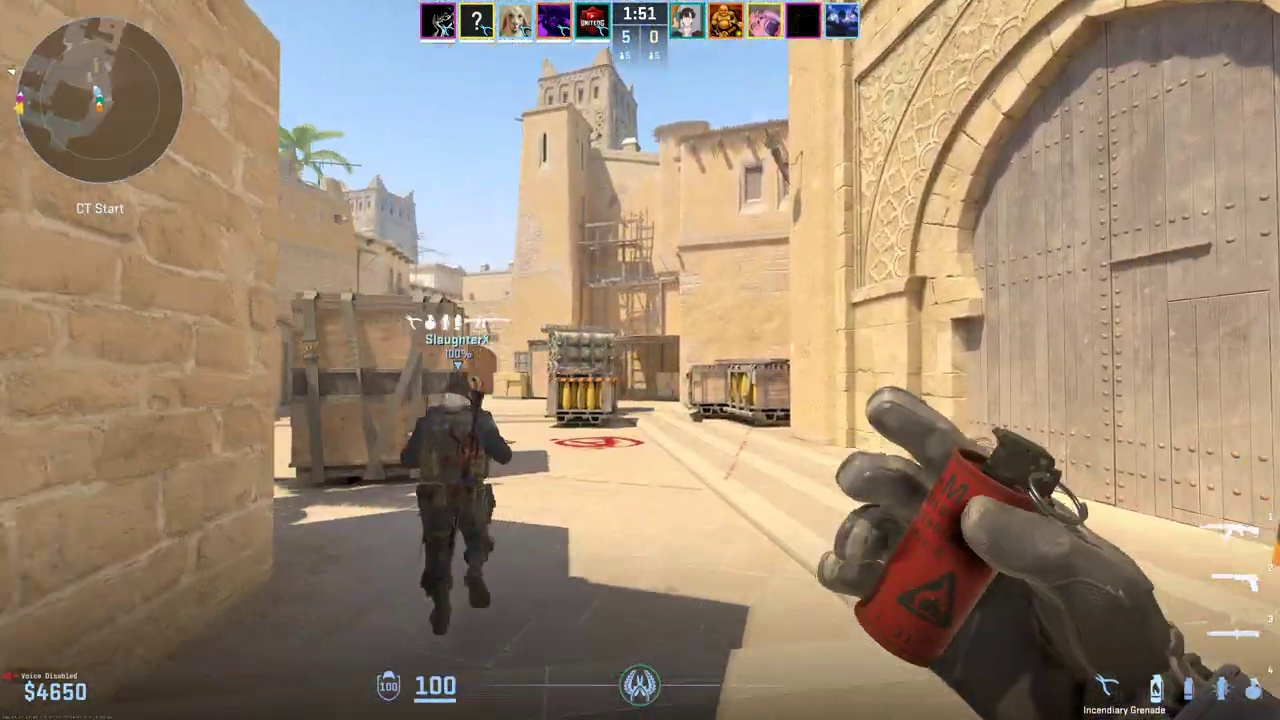CT: (416, 375, 502, 636)
